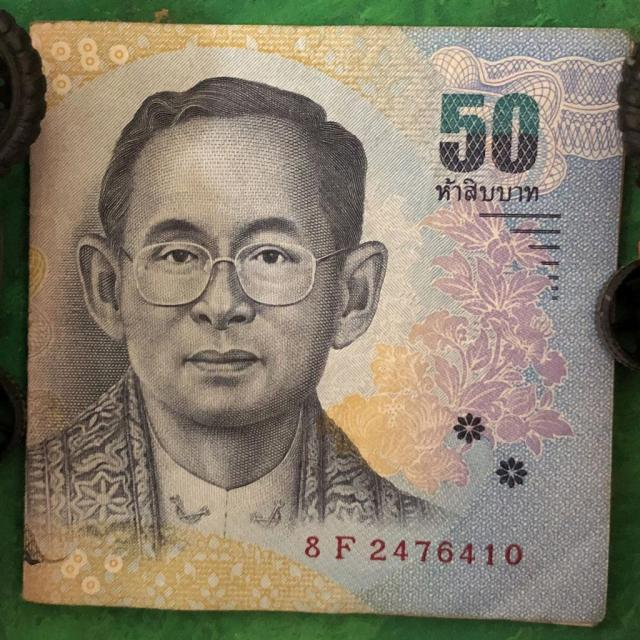THAI50: (23, 22, 630, 625)
